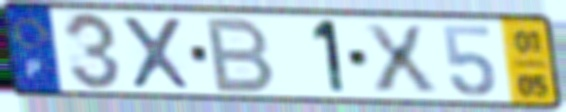1: (306, 17, 349, 98)
3: (60, 10, 124, 93)
5: (440, 22, 500, 99)
B: (204, 15, 279, 95)
X: (117, 14, 196, 92), (359, 22, 442, 95)
